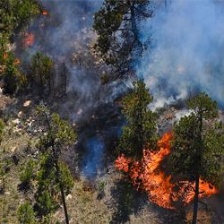fire: (123, 142, 213, 203)
smoke: (127, 5, 218, 94), (44, 20, 103, 131)
